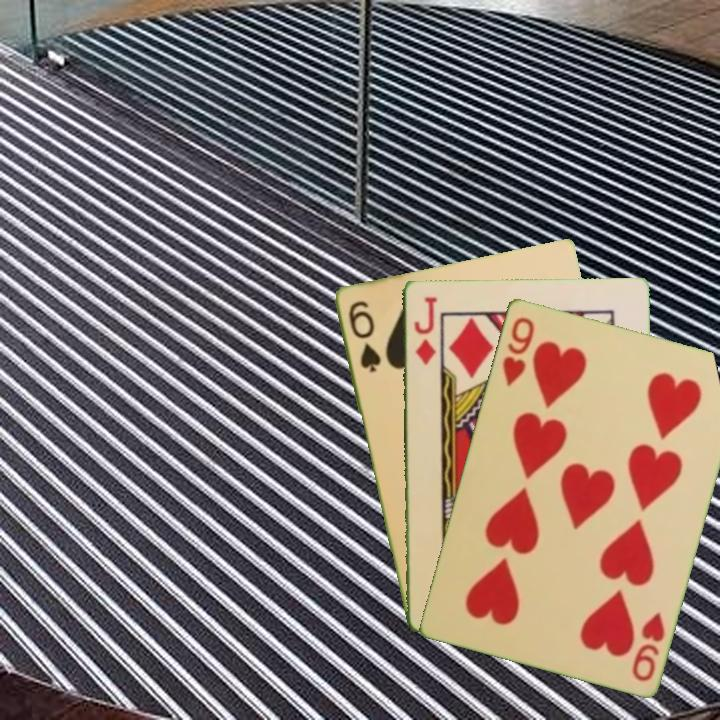6s: (344, 297, 384, 375)
9h: (628, 608, 667, 684), (498, 313, 537, 388)
Jd: (410, 292, 440, 367)
